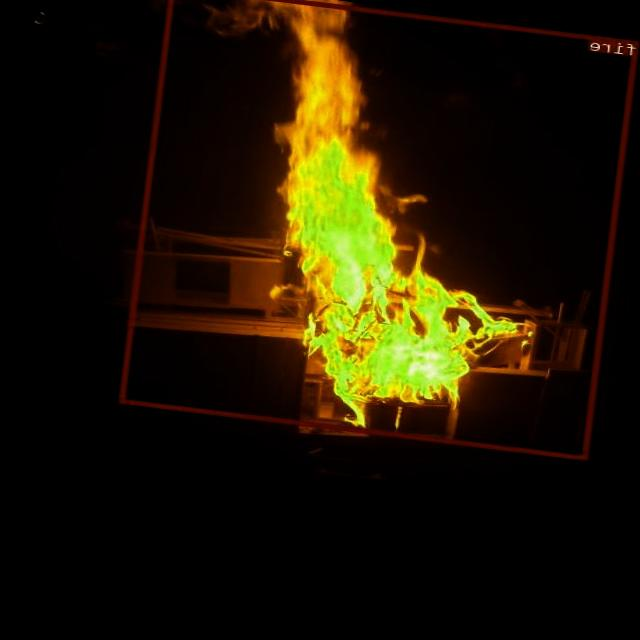fire: (119, 0, 640, 459)
